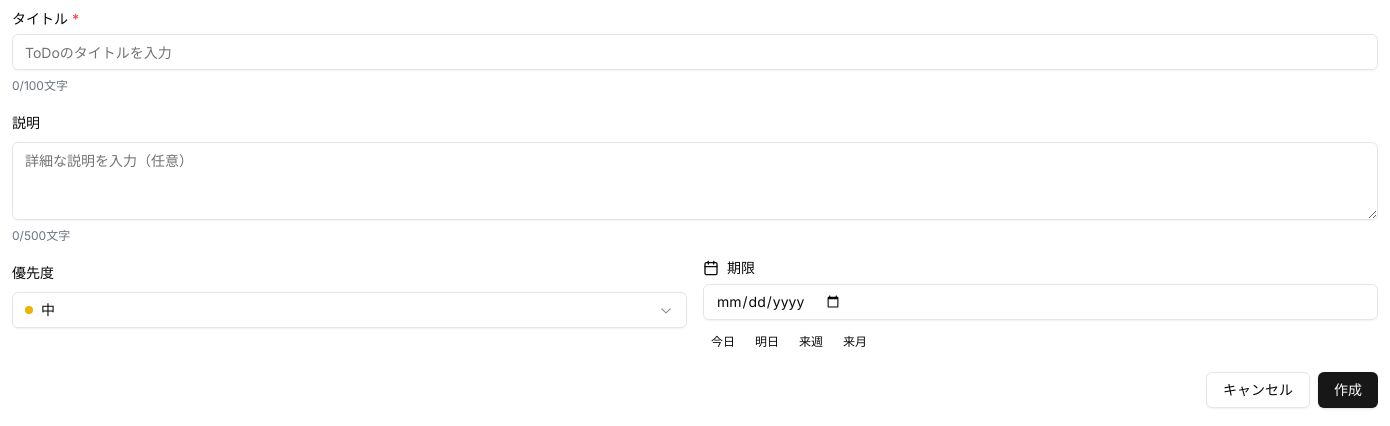
Test: TodoForm › Date Presets › sets today's date when today button is clicked
The image size is (1390, 426).
Click the button "今日". click: click(723, 342)
box: left=703, top=328, right=743, bottom=356
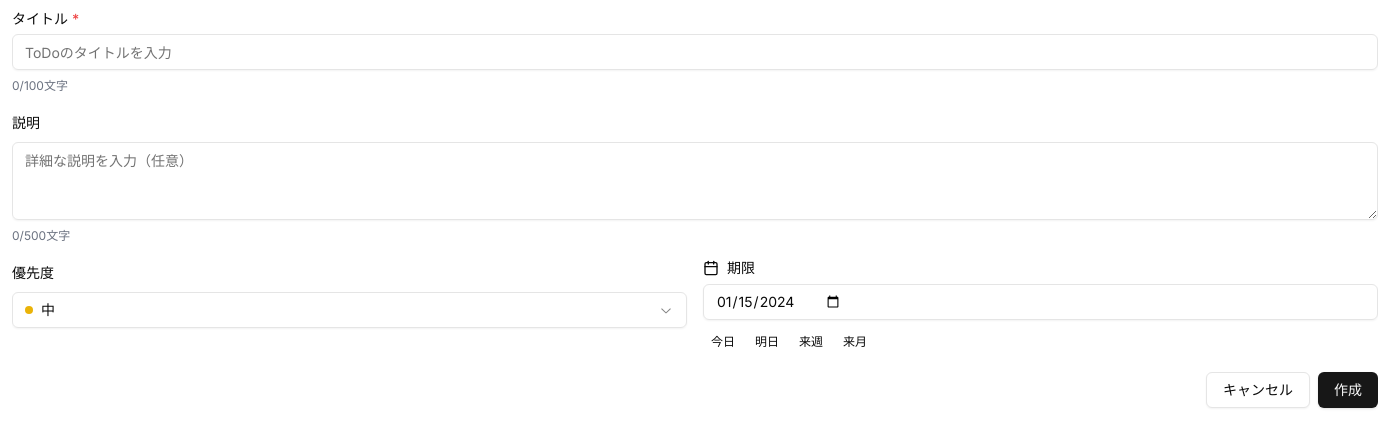
Now the date field labelled "期限" holds "2024-01-15", box left=703, top=284, right=1378, bottom=320
